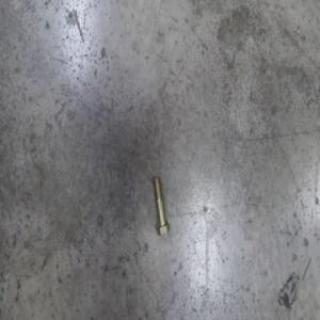Bolttrack_idkeyframe: (152, 176, 170, 237)
